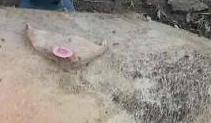text: (43, 39, 89, 66)
